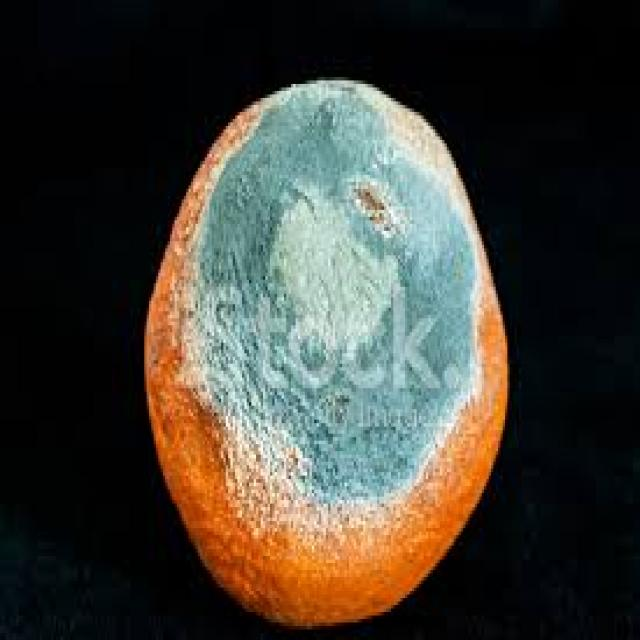organic waste: (142, 73, 505, 622)
